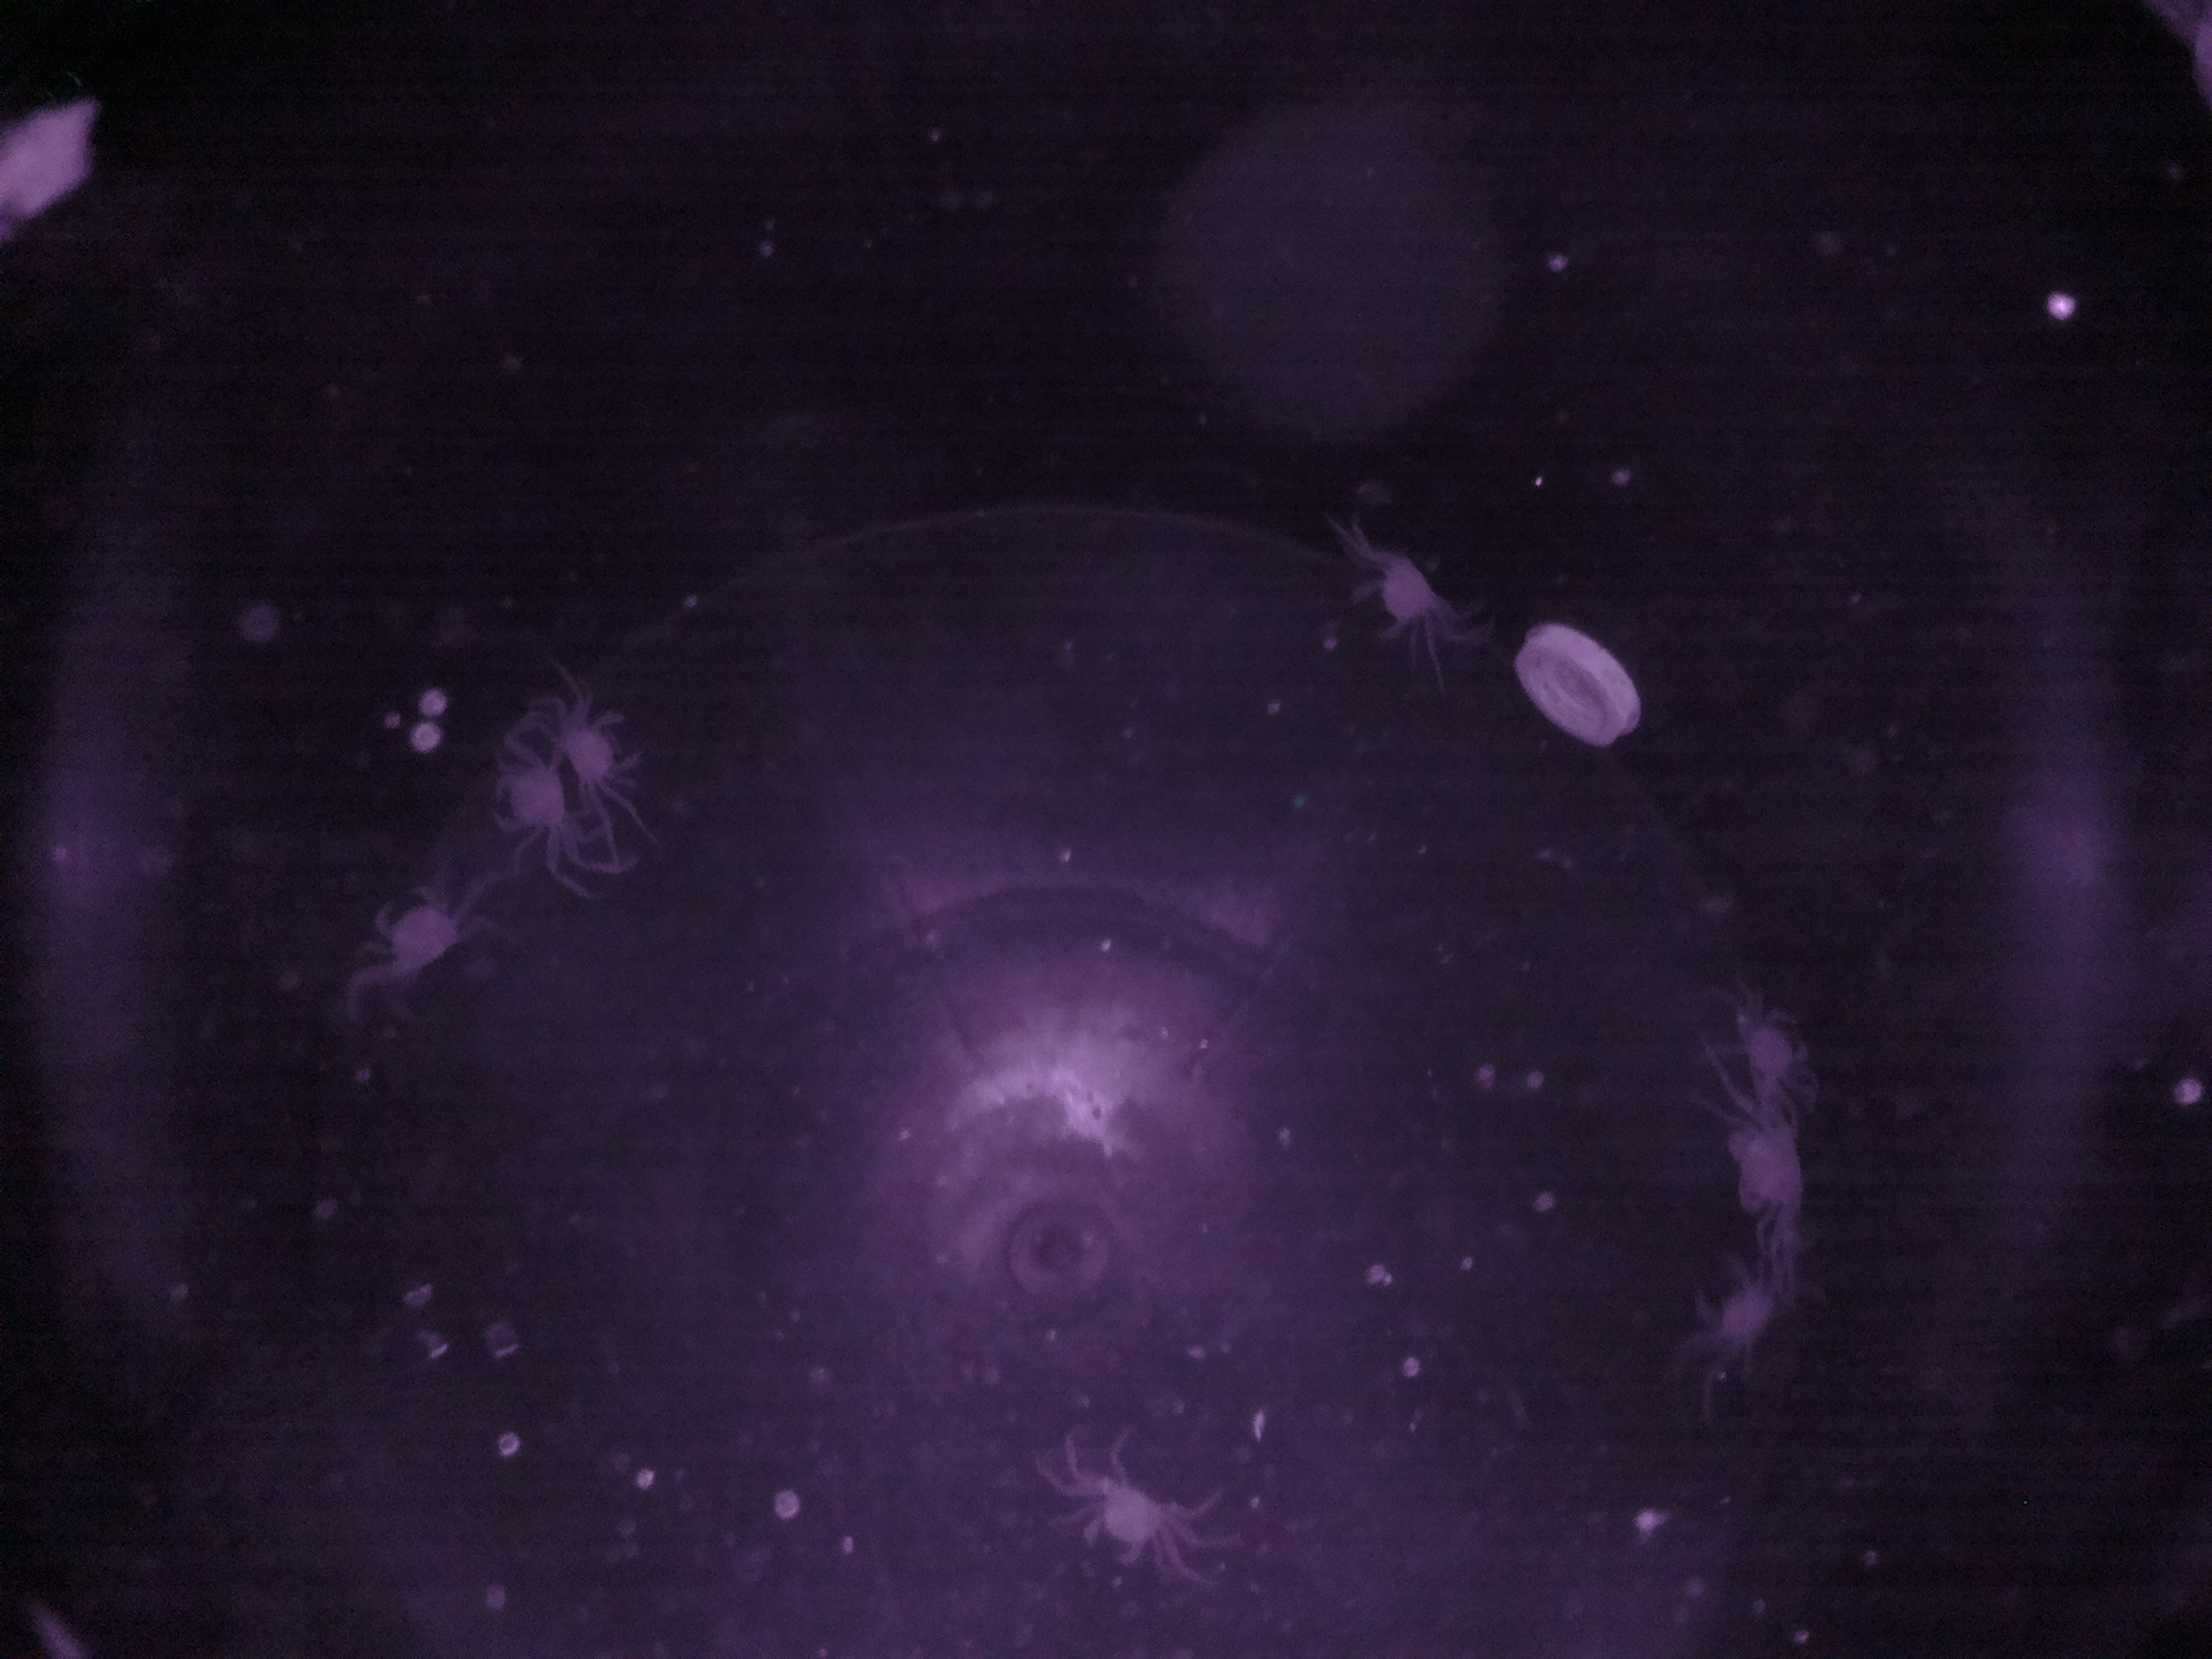Crab: (362, 863, 488, 1000), (536, 687, 669, 814), (1709, 1110, 1832, 1230), (1071, 1464, 1179, 1582), (1346, 542, 1458, 653)
